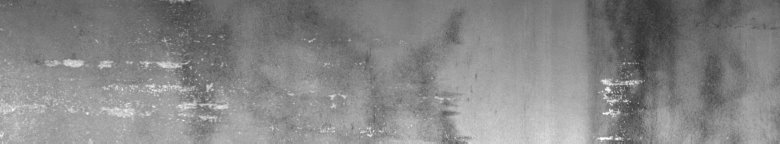hc: (598, 52, 648, 136)
